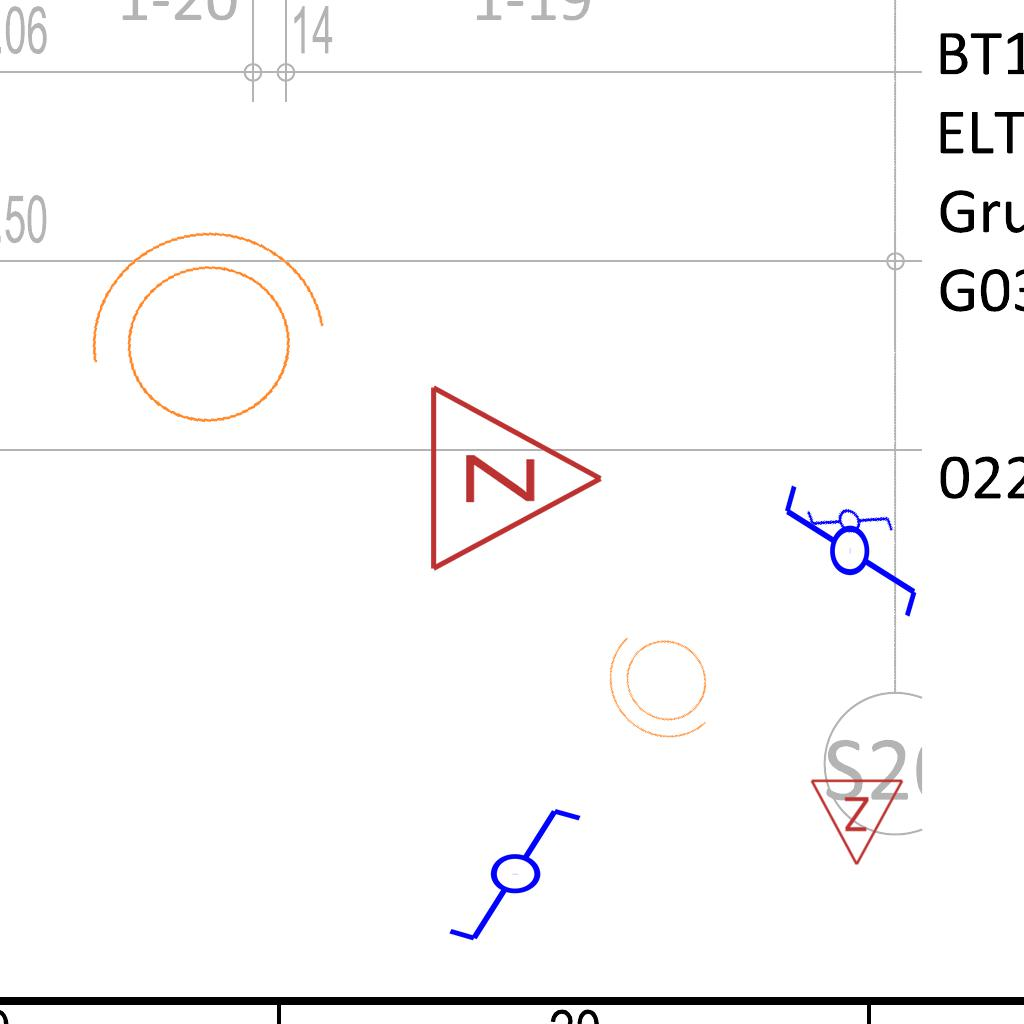Scheinwerfer_fuer_Alarmbeleuchtung: (53, 203, 349, 468), (579, 599, 751, 773)
Wechselschalter: (780, 464, 924, 621), (445, 804, 602, 948), (795, 464, 901, 570)
Zimmersignalleuchte: (416, 378, 616, 574), (809, 772, 907, 872)
